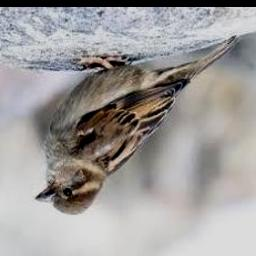Sparrow: (37, 36, 239, 215)
